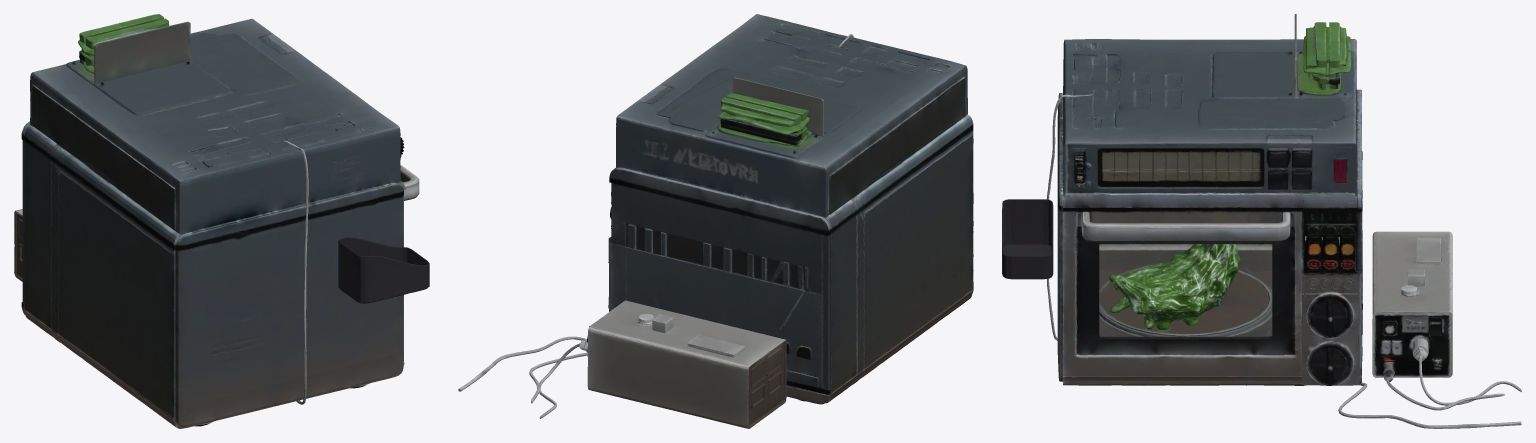
File: opti_time.glb
The picture shows the model from 3 angles, left to right: view 1: azimuth 30°, elevation 25°; view 2: azimuth 150°, elevation 25°; view 3: azimuth 270°, elevation 25°; orthographic projection. The views are drawn at different scales.
Parts seen in each view (by area): view 1: tripo_node_3e18205d-1cd6-47af-b0a1-1f1a0b9cdbd2; view 2: tripo_node_3e18205d-1cd6-47af-b0a1-1f1a0b9cdbd2; view 3: tripo_node_3e18205d-1cd6-47af-b0a1-1f1a0b9cdbd2.
Part boxes in pixels (<box>): tripo_node_3e18205d-1cd6-47af-b0a1-1f1a0b9cdbd2: <box>14,14,429,428</box>; tripo_node_3e18205d-1cd6-47af-b0a1-1f1a0b9cdbd2: <box>458,14,973,428</box>; tripo_node_3e18205d-1cd6-47af-b0a1-1f1a0b9cdbd2: <box>1002,14,1521,428</box>.
Size of the model in its own units: 0.6834 by 0.6217 by 1.
1 material, 1 textured.
